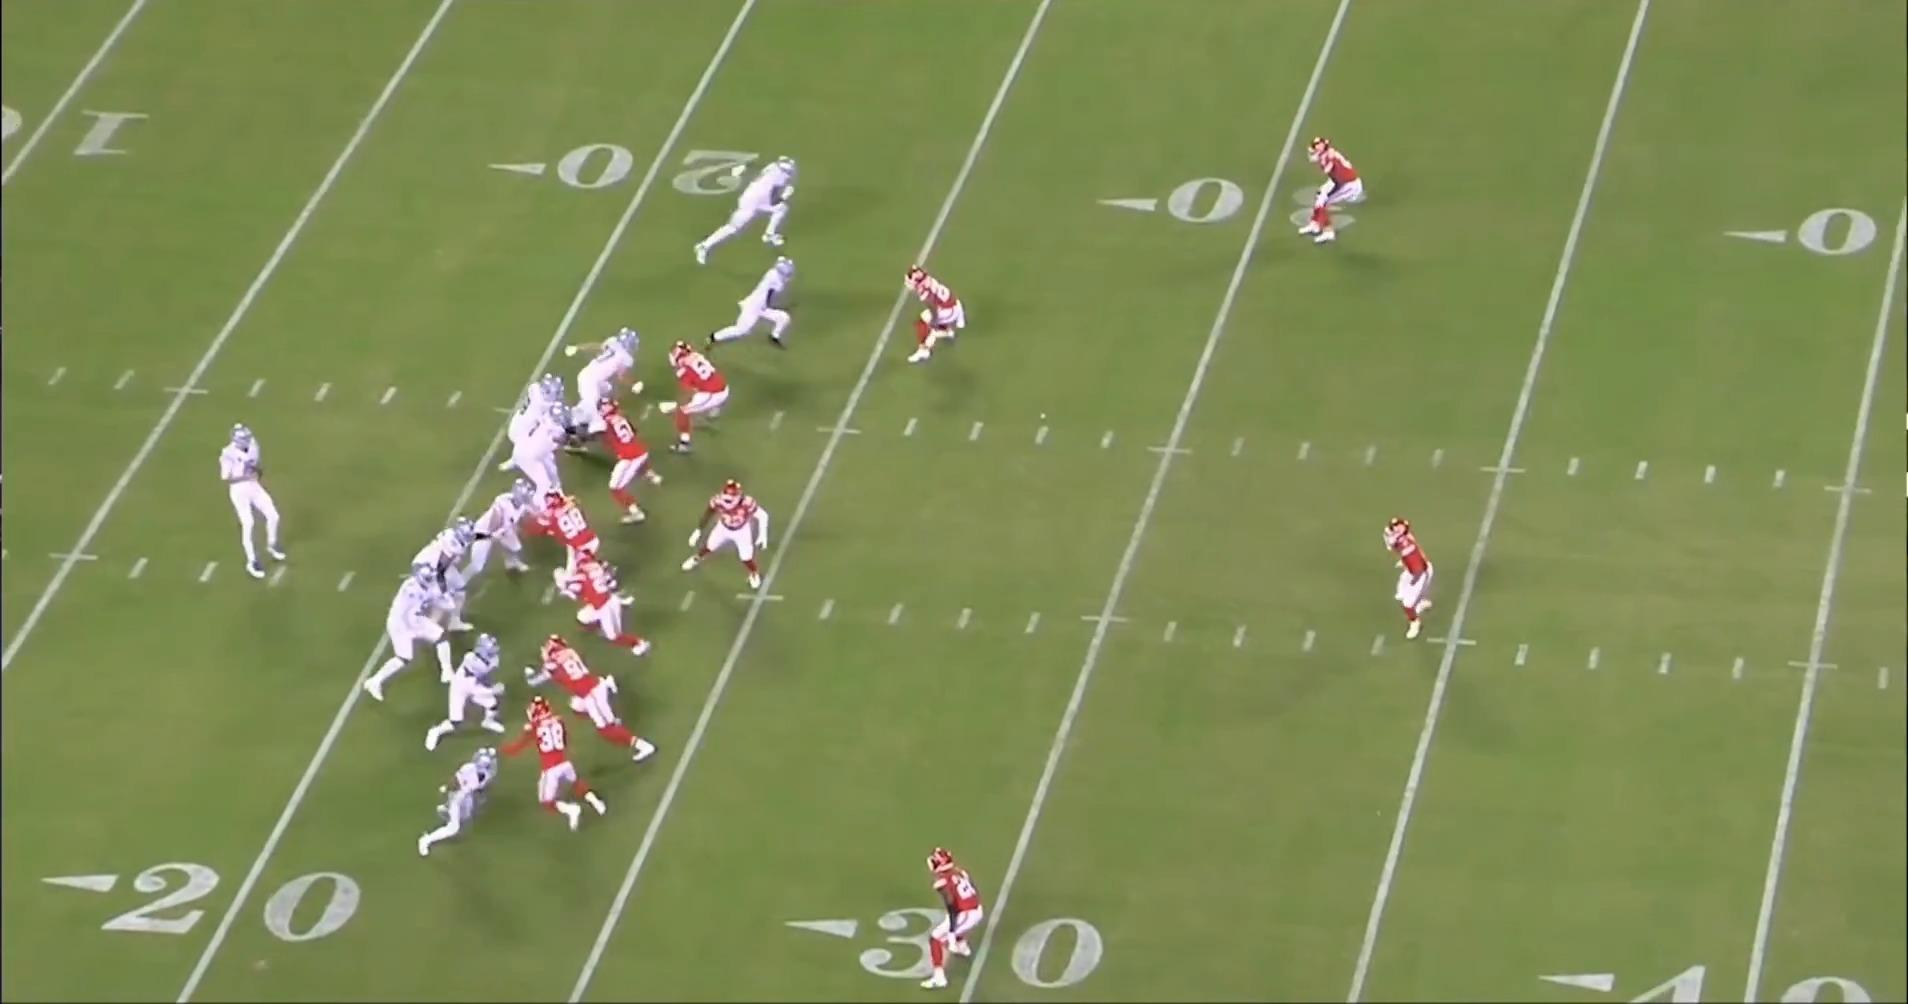player: (519, 636, 654, 768), (368, 563, 469, 708), (505, 695, 607, 832), (694, 155, 808, 270), (683, 481, 783, 600), (416, 631, 508, 758), (415, 741, 510, 861), (218, 424, 291, 577), (556, 549, 654, 662), (922, 840, 993, 993), (578, 398, 661, 527), (709, 252, 809, 357), (537, 484, 619, 606), (402, 514, 478, 644), (463, 486, 546, 596), (667, 337, 743, 454), (1377, 515, 1438, 646), (502, 371, 575, 480), (1296, 135, 1363, 252), (910, 267, 976, 372), (564, 328, 640, 419), (516, 406, 588, 498)
